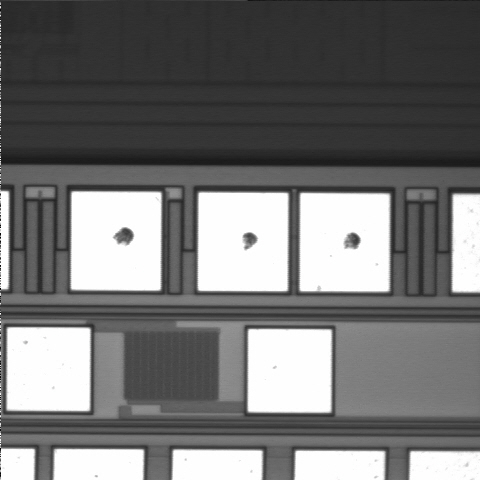pad: (300, 193, 390, 292), (71, 192, 161, 290), (198, 193, 288, 291), (7, 327, 90, 411), (248, 329, 331, 413)
